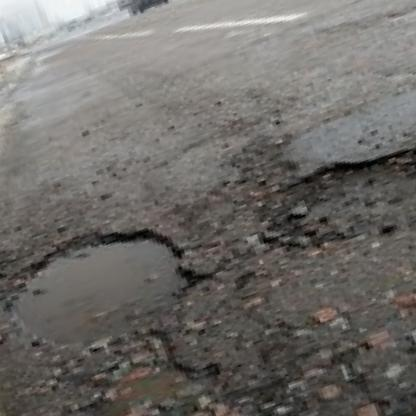pothole: (237, 92, 416, 310), (0, 203, 213, 376)
